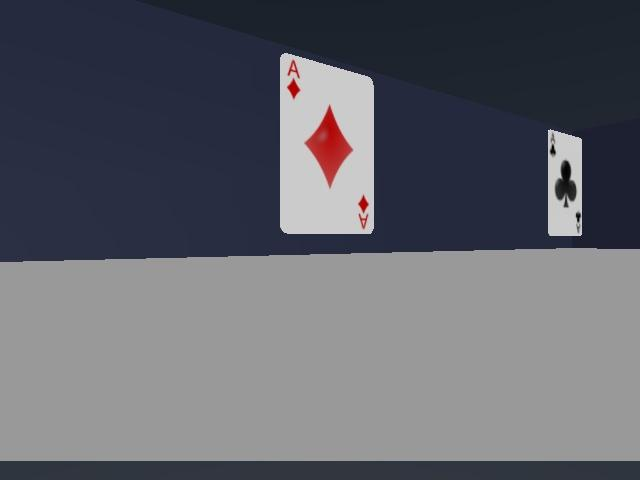club: (548, 130, 582, 235)
diamond: (280, 54, 374, 233)
